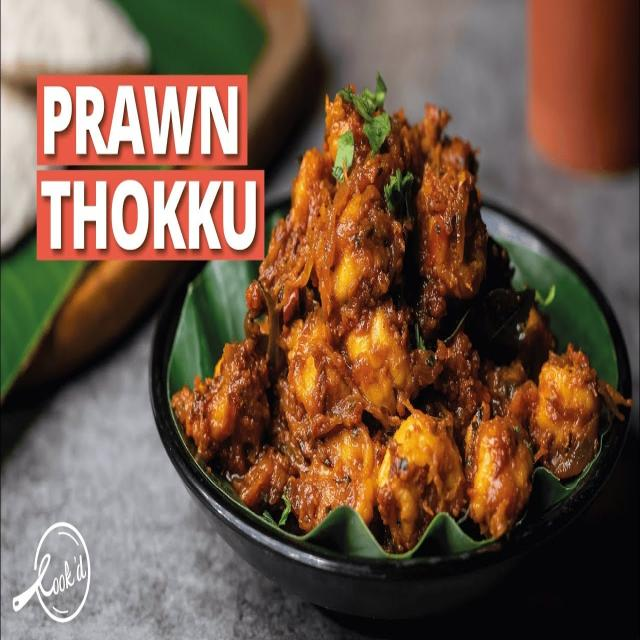prawn thokku: (279, 59, 613, 517)
